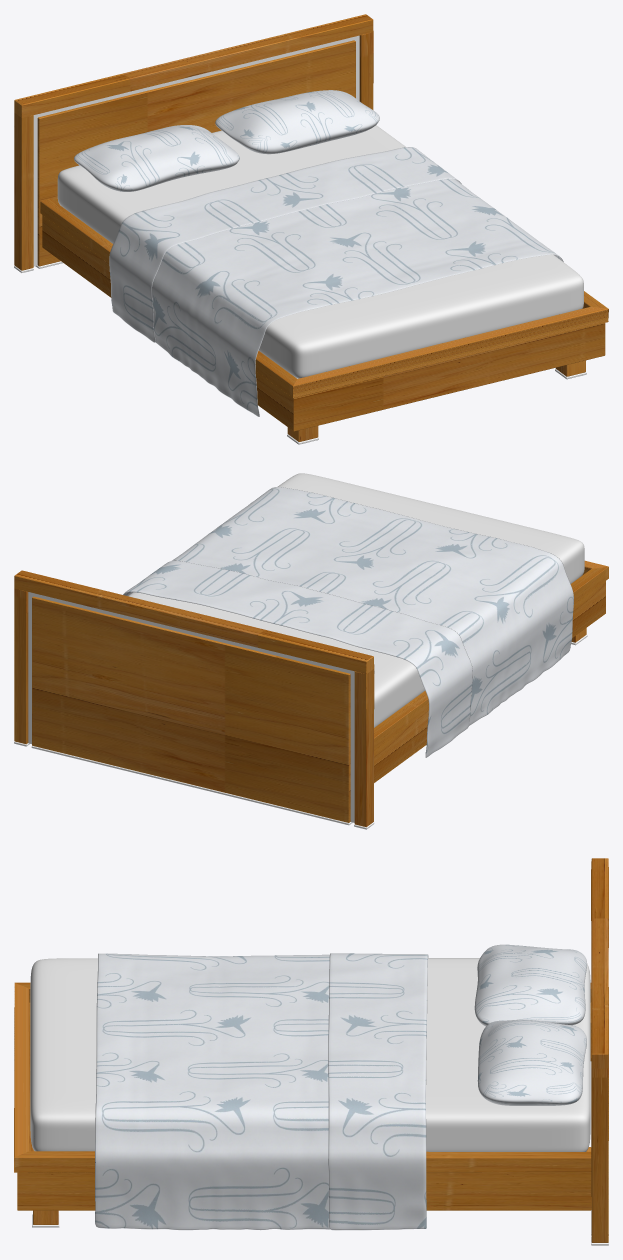
The model's file is bed_double.glb.
The picture shows the model from 3 angles, top to bottom: view 1: azimuth 30°, elevation 25°; view 2: azimuth 150°, elevation 25°; view 3: azimuth 270°, elevation 25°; orthographic projection. The views are drawn at different scales.
Visible parts, largest first — view 1: Bedsheets_0001, WoodFurniture_0007, Matress, Bedsheets_0002, Bedsheets_0003, StainlessSmooth_0005; view 2: WoodFurniture_0007, Bedsheets_0001, Matress, StainlessSmooth_0005; view 3: Bedsheets_0001, Matress, WoodFurniture_0007, Bedsheets_0003, Bedsheets_0002, WoodFurniture_0006.
Boxes of the visible parts, <box> form: Bedsheets_0001: <box>109,147,563,416</box>; WoodFurniture_0007: <box>14,14,608,441</box>; Matress: <box>57,125,583,378</box>; Bedsheets_0002: <box>74,125,239,191</box>; Bedsheets_0003: <box>215,90,379,154</box>; StainlessSmooth_0005: <box>14,35,586,444</box>; WoodFurniture_0007: <box>14,560,608,827</box>; Bedsheets_0001: <box>123,487,573,757</box>; Matress: <box>128,473,584,727</box>; StainlessSmooth_0005: <box>14,592,587,829</box>; Bedsheets_0001: <box>95,953,428,1230</box>; Matress: <box>30,958,590,1151</box>; WoodFurniture_0007: <box>14,858,608,1242</box>; Bedsheets_0003: <box>477,1019,586,1105</box>; Bedsheets_0002: <box>474,944,587,1026</box>; WoodFurniture_0006: <box>14,988,608,1172</box>.
Bounding box in the file's own units: 1.62 × 0.7367 × 2.07.
3 materials, 3 textured.
